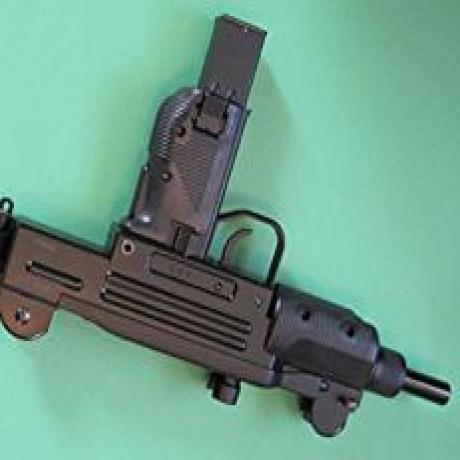weapon: (0, 9, 452, 442)
